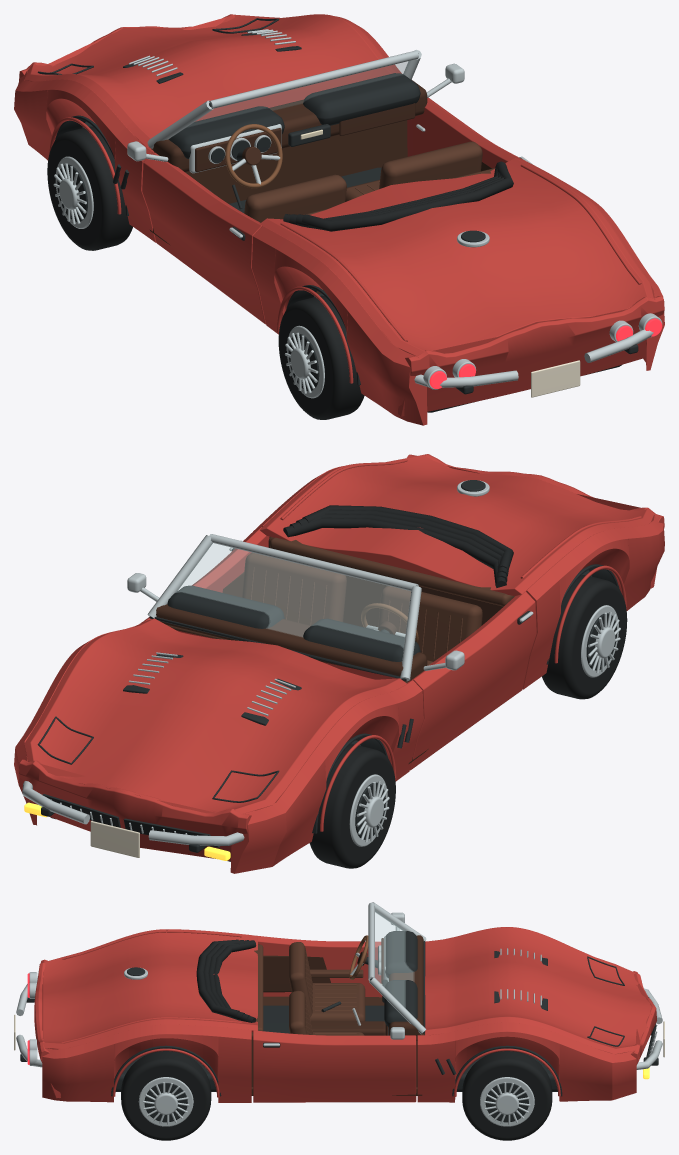
Rendered from Corvette.fbx.
3 renders of one model, top to bottom at view 1: azimuth 30°, elevation 25°; view 2: azimuth 150°, elevation 25°; view 3: azimuth 270°, elevation 25°, orthographic. The views are drawn at different scales.
Parts seen in each view (by area): view 1: Corvette; view 2: Corvette; view 3: Corvette.
Part boxes in pixels (x1,y1,x2,y2): Corvette: [14, 14, 664, 425]; Corvette: [14, 454, 664, 873]; Corvette: [14, 902, 664, 1140].
Bounding box in the file's own units: 226 × 133 × 523.
